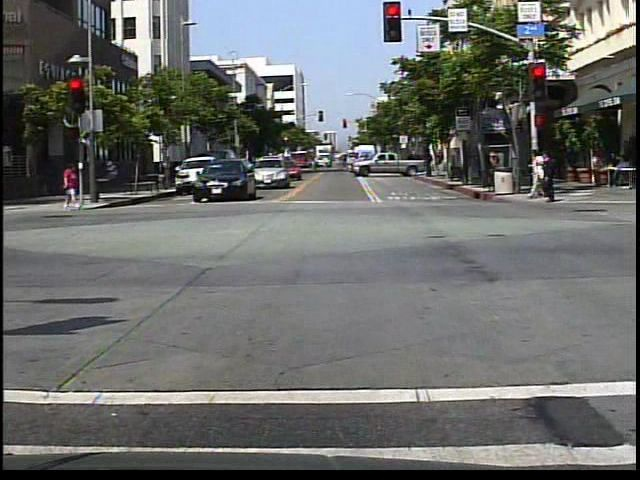person: (535, 149, 563, 207), (526, 146, 546, 201), (62, 161, 82, 213)
